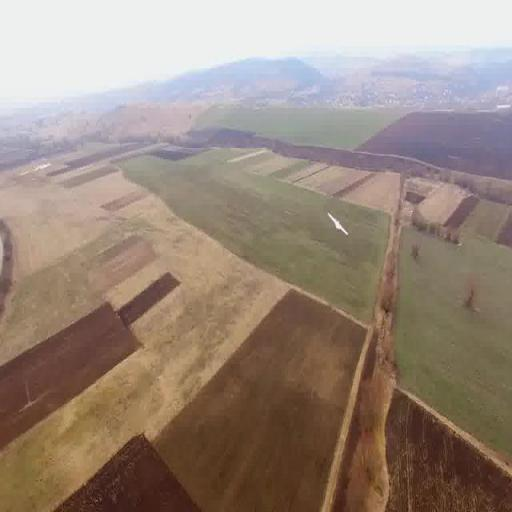uav: (322, 200, 352, 239)
